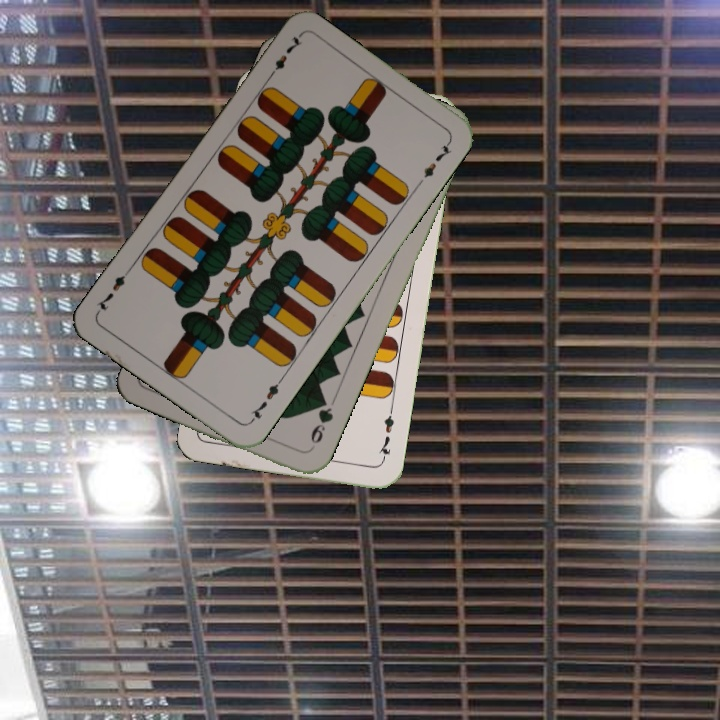E7: (263, 32, 305, 83), (246, 374, 285, 426), (374, 405, 397, 464)
G9: (306, 393, 336, 447)
